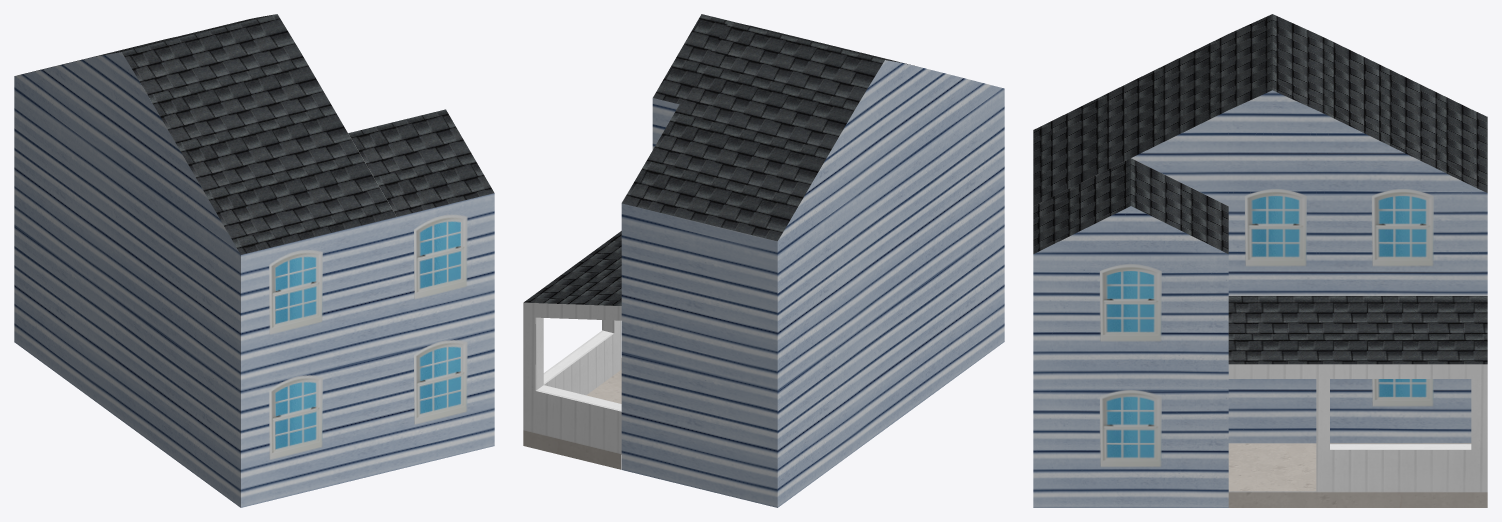
The model's file is Suburbs_House2.fbx.
3 renders of one model, left to right at view 1: azimuth 30°, elevation 25°; view 2: azimuth 150°, elevation 25°; view 3: azimuth 270°, elevation 25°, orthographic.
Parts seen in each view (by area): view 1: Cube; view 2: Cube; view 3: Cube.
Part boxes in pixels (x1=…): Cube: x1=14, y1=14, x2=494, y2=507; Cube: x1=523, y1=14, x2=1004, y2=507; Cube: x1=1033, y1=14, x2=1487, y2=507.
Bounding box in the file's own units: 213 × 295 × 329.
